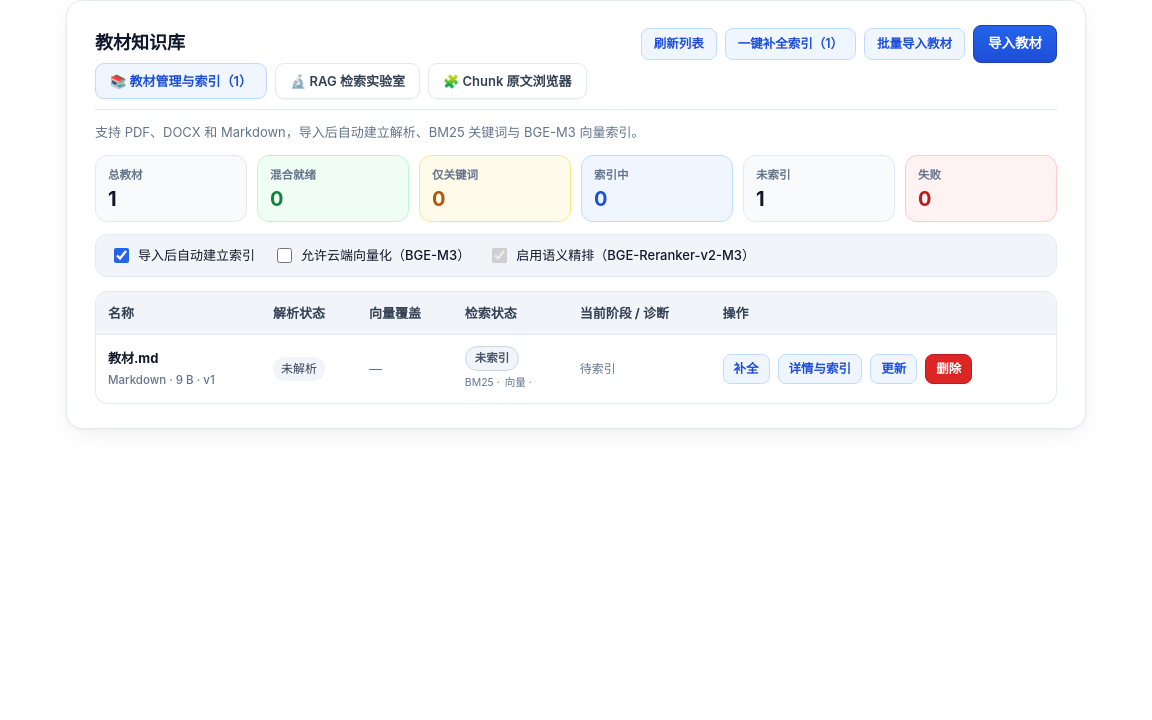
discloses cloud transfer and waits for confirmation before submitting the latest version
Expected: the column heading "教材.md Markdown · 9 B · v1" is shown, [96,335,261,403]
What coordinates should you click on to do the following:
click the button with aria-label "查看 教材.md 详情"
I would click on:
 (820, 369)
Its box is [778,354,862,384].
(page scrolled)
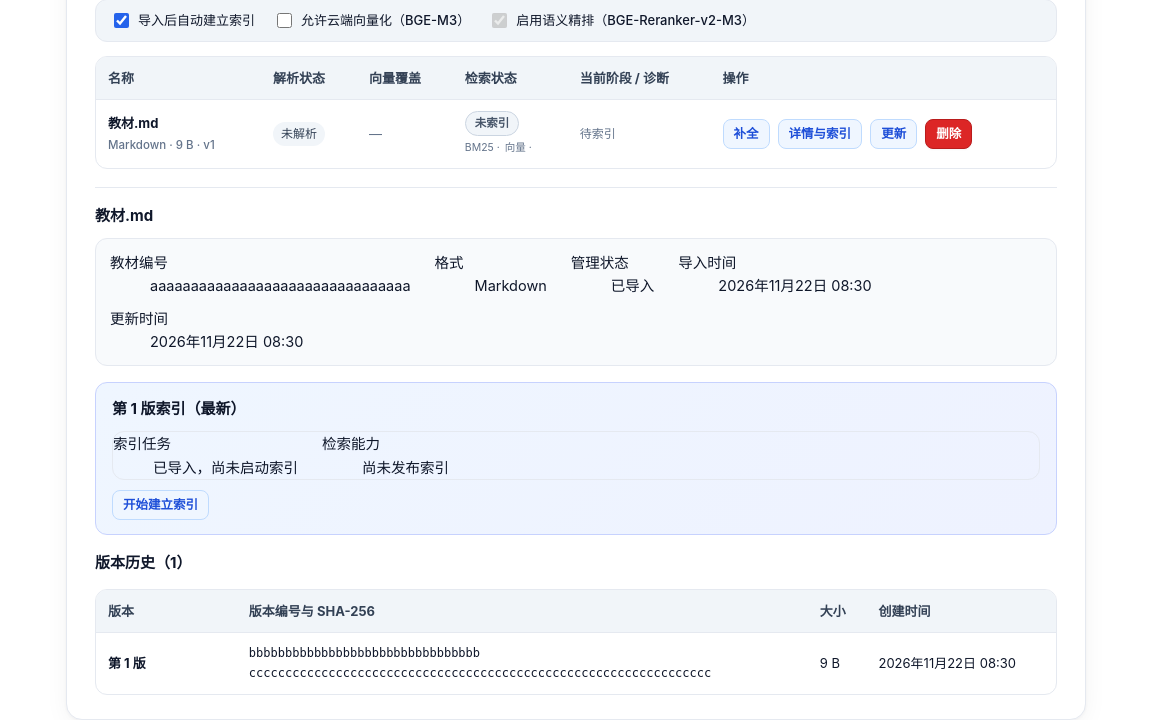
What coordinates should you click on to do the following:
click the button "开始建立索引"
I would click on:
 (160, 505)
Its box is [112,490,209,520].
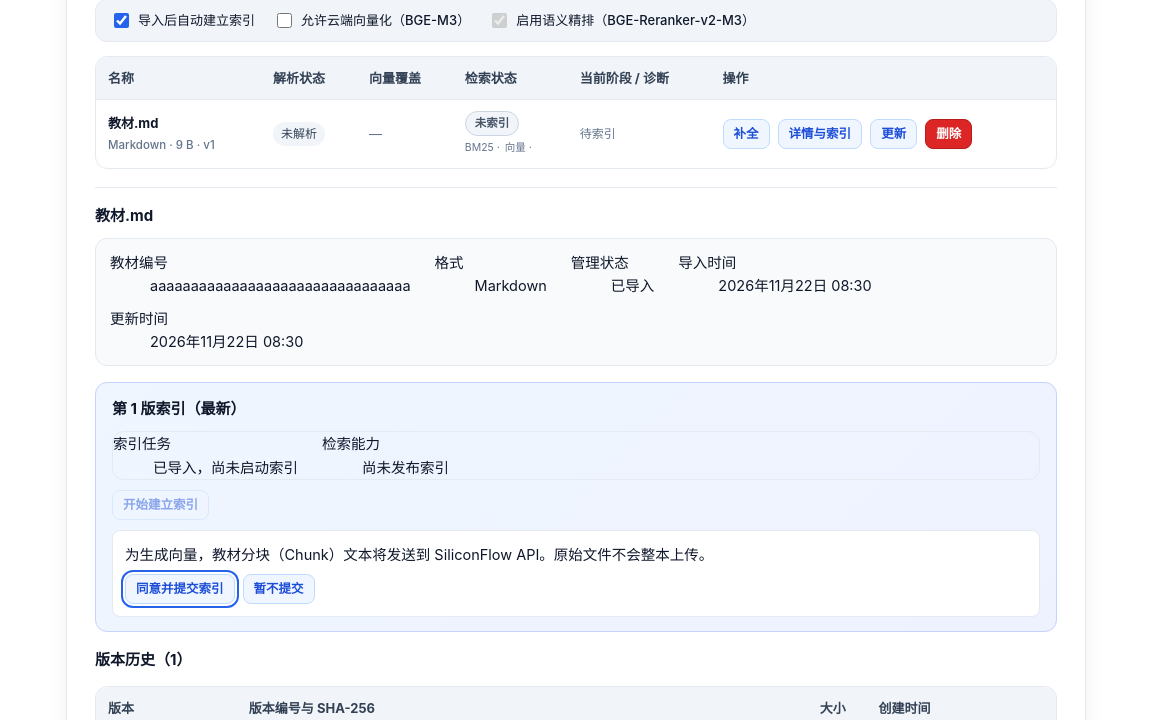
Now the text "为生成向量，教材分块（Chunk）文本将发送到 SiliconFlow API。原始文件不会整本上传。" is shown, box [125,546,713,563]
What coordinates should you click on to do the following:
click the button "暂不提交"
I would click on:
 (278, 589)
Its box is [242,574,314,604].
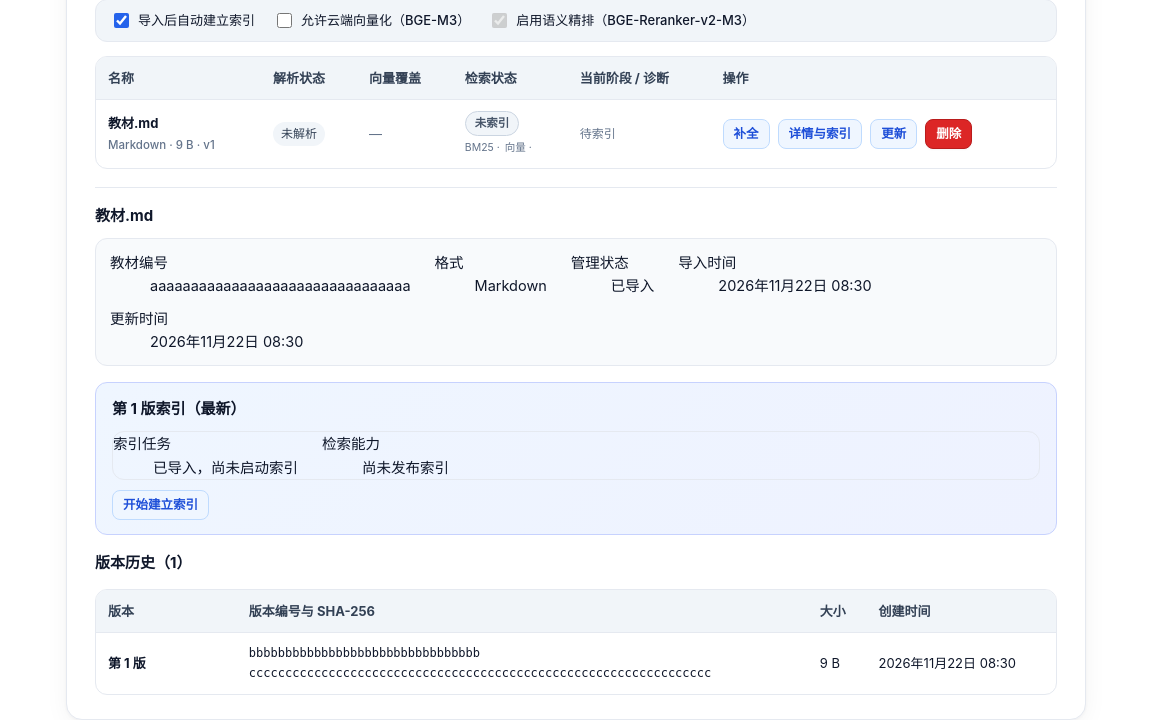
What coordinates should you click on to do the following:
click the button "开始建立索引"
I would click on:
 (160, 505)
Its box is [112,490,209,520].
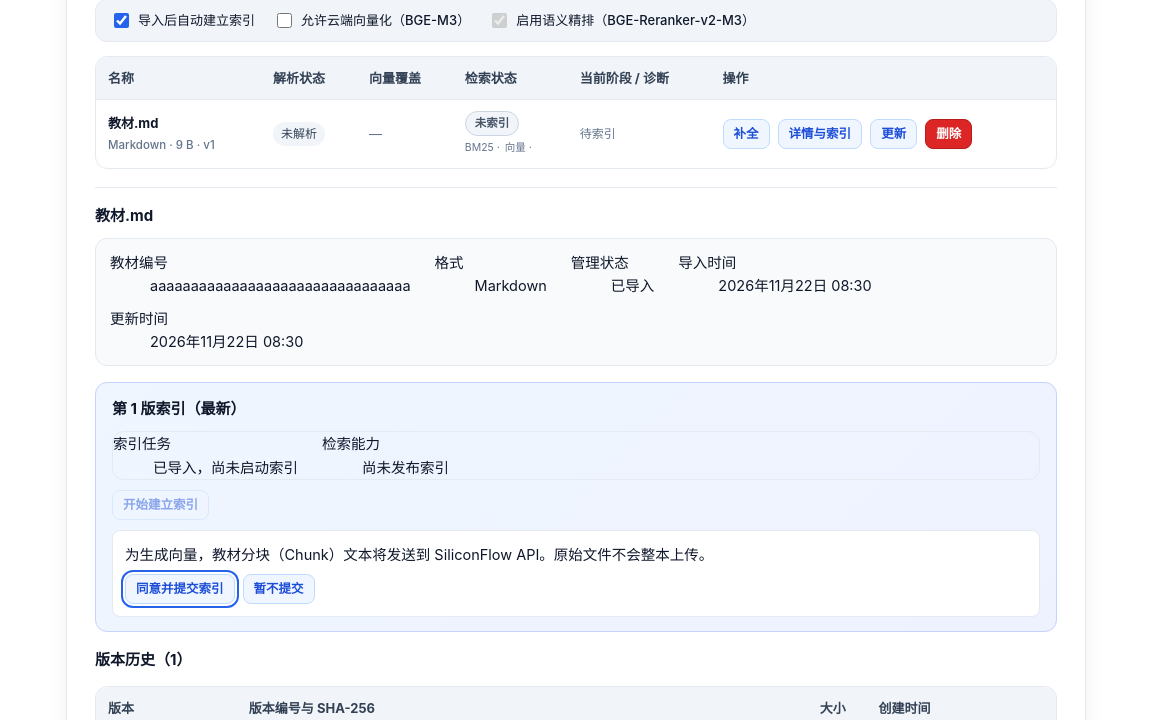
What coordinates should you click on to do the following:
click the button "同意并提交索引"
I would click on:
 (180, 589)
Its box is [125,574,234,604].
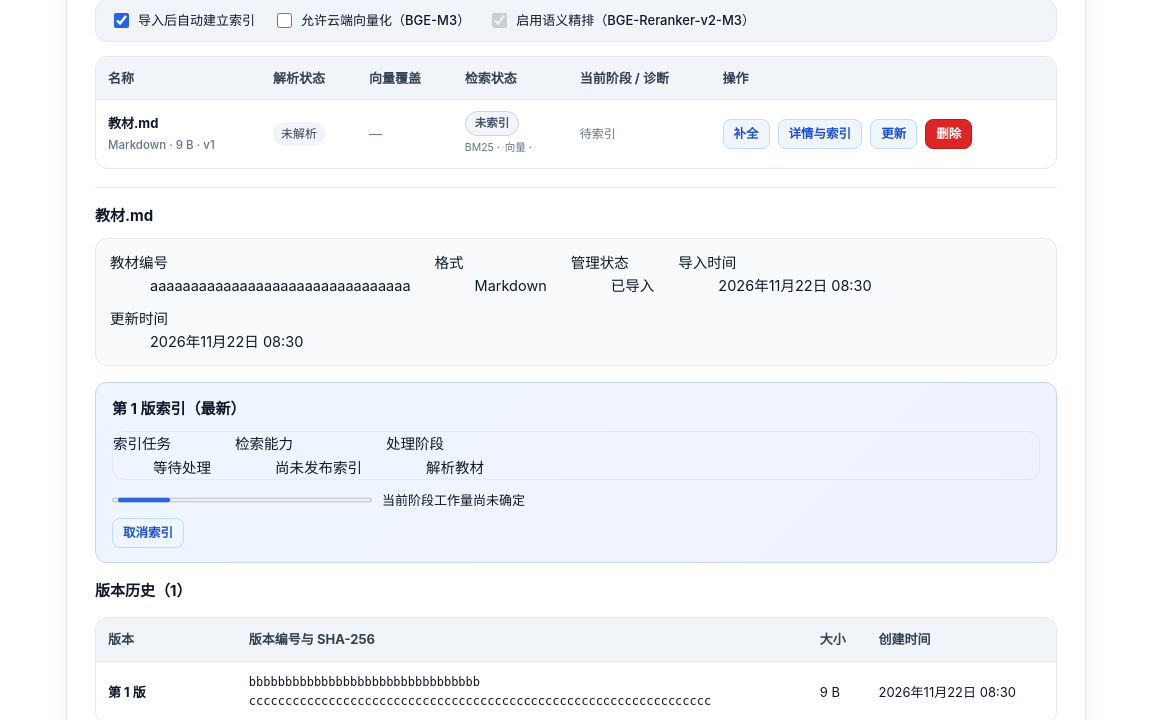
Now the text "等待处理" is shown, box [153,456,211,479]
